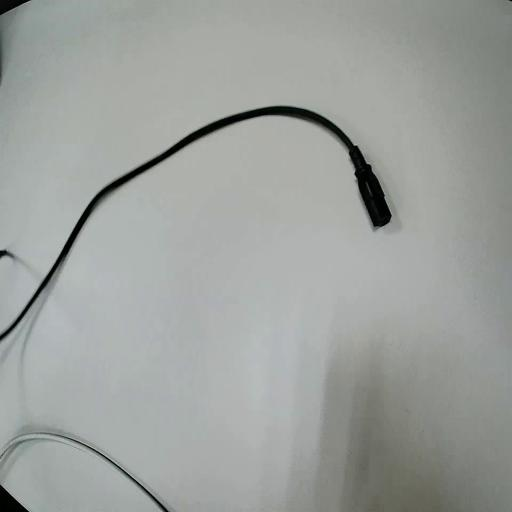wire: (0, 107, 390, 339)
